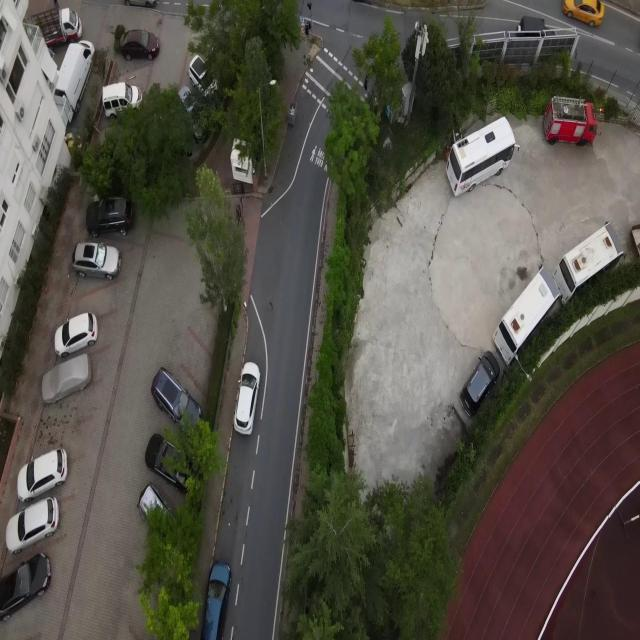p3rson: (53, 0, 59, 9)
